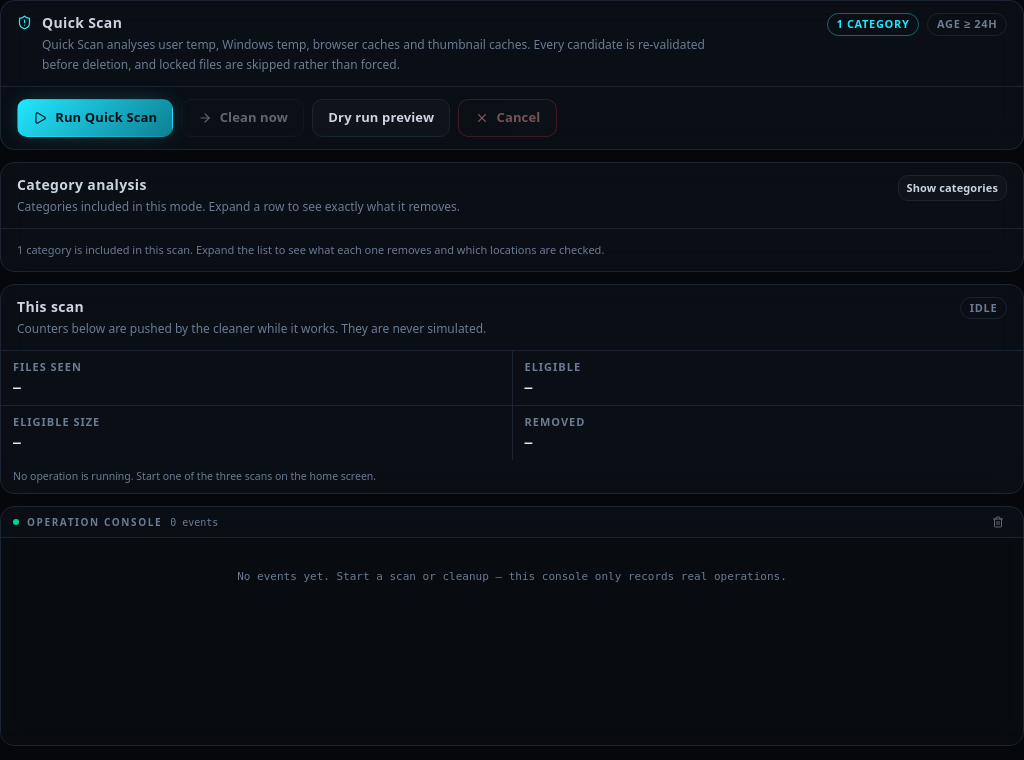
Test case: Clean page flow › exposes cancellation and reduced-motion aware rendering
Expected: the button "Cancel" is disabled, [458,99,557,136]
Click the button "Run Quick Scan" at [95, 118], box [17,99,174,136]
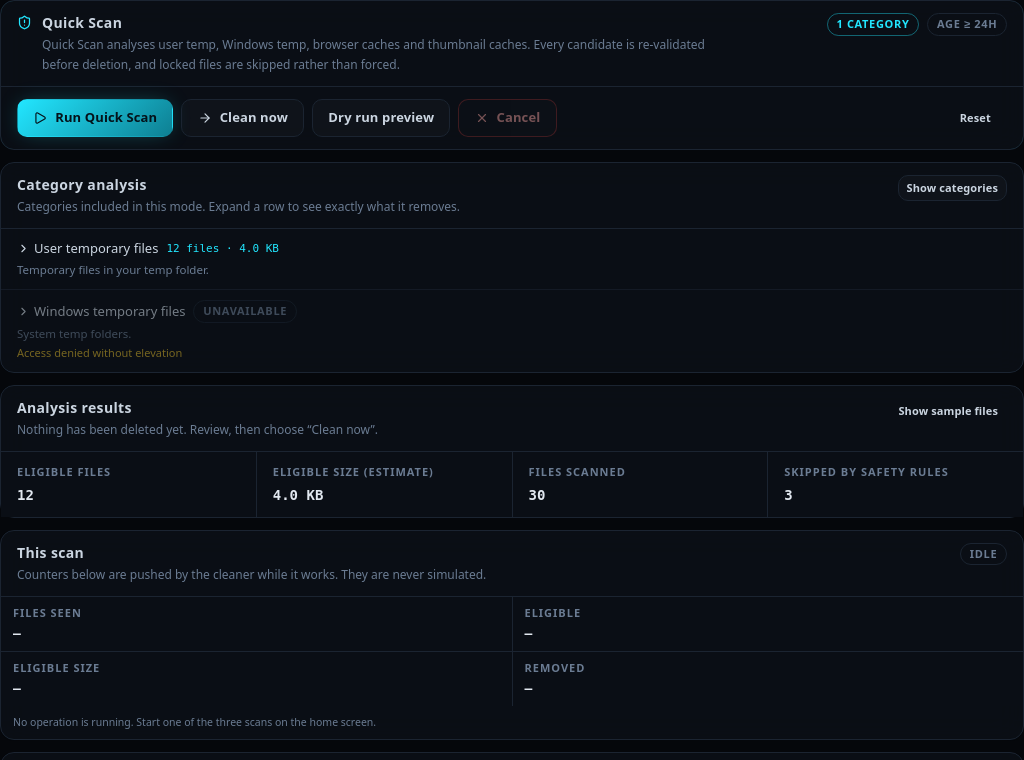
Expected: the heading "Analysis results" is shown, [17,398,132,417]
